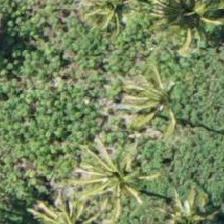coconut_tree: (68, 129, 158, 219), (119, 53, 209, 143), (77, 0, 167, 49), (15, 175, 105, 223)
